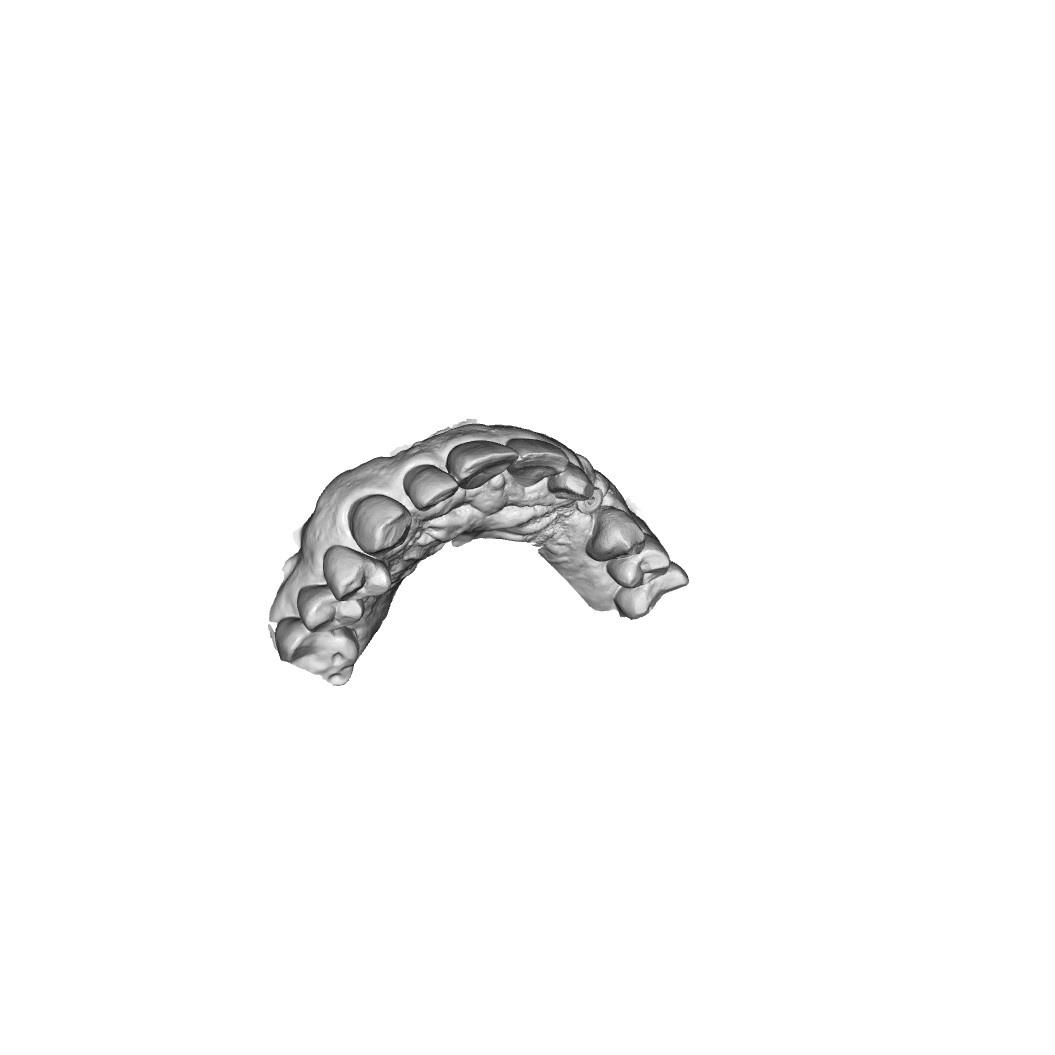canine: (348, 494, 409, 554)
incisor: (450, 439, 518, 492), (402, 461, 456, 512), (506, 437, 561, 487), (549, 465, 592, 506)
molar: (276, 623, 362, 691)
premolar: (325, 547, 392, 600), (586, 506, 643, 563), (615, 539, 668, 588), (297, 592, 365, 628)
